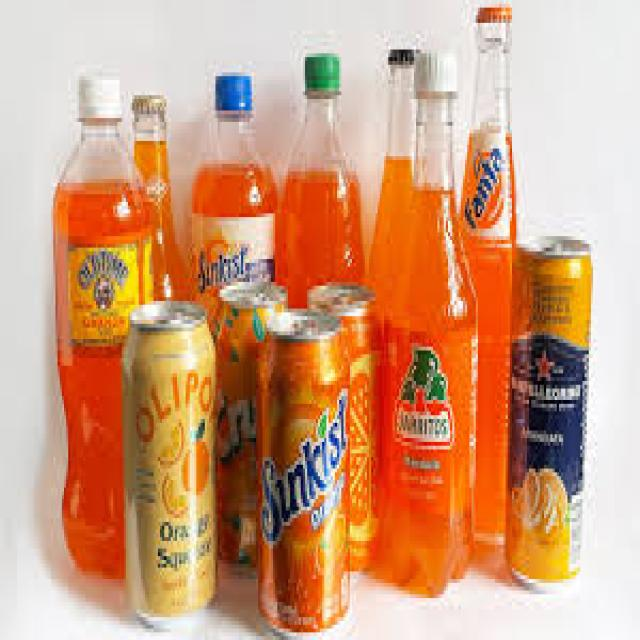Cans: (500, 221, 598, 594), (117, 294, 224, 632), (252, 305, 358, 636)
